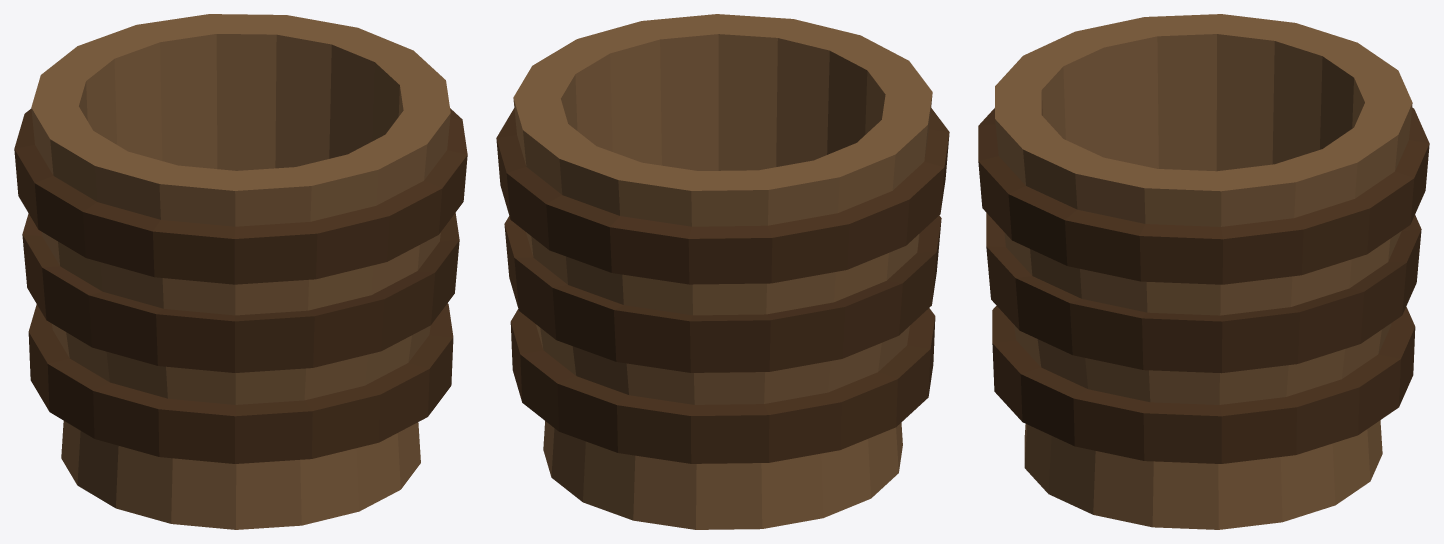
File: Bucket_T3.fbx
3 views of the same model, side by side, from view 1: azimuth 30°, elevation 25°; view 2: azimuth 150°, elevation 25°; view 3: azimuth 270°, elevation 25° (orthographic).
Parts seen in each view (by area): view 1: Butcket_T3; view 2: Butcket_T3; view 3: Butcket_T3.
Part boxes in pixels (box(x1,y1,x2,y2)): Butcket_T3: box(14, 14, 467, 529); Butcket_T3: box(496, 14, 949, 529); Butcket_T3: box(978, 14, 1429, 529).
Bounding box in the file's own units: 49.48 × 42.33 × 49.27.
